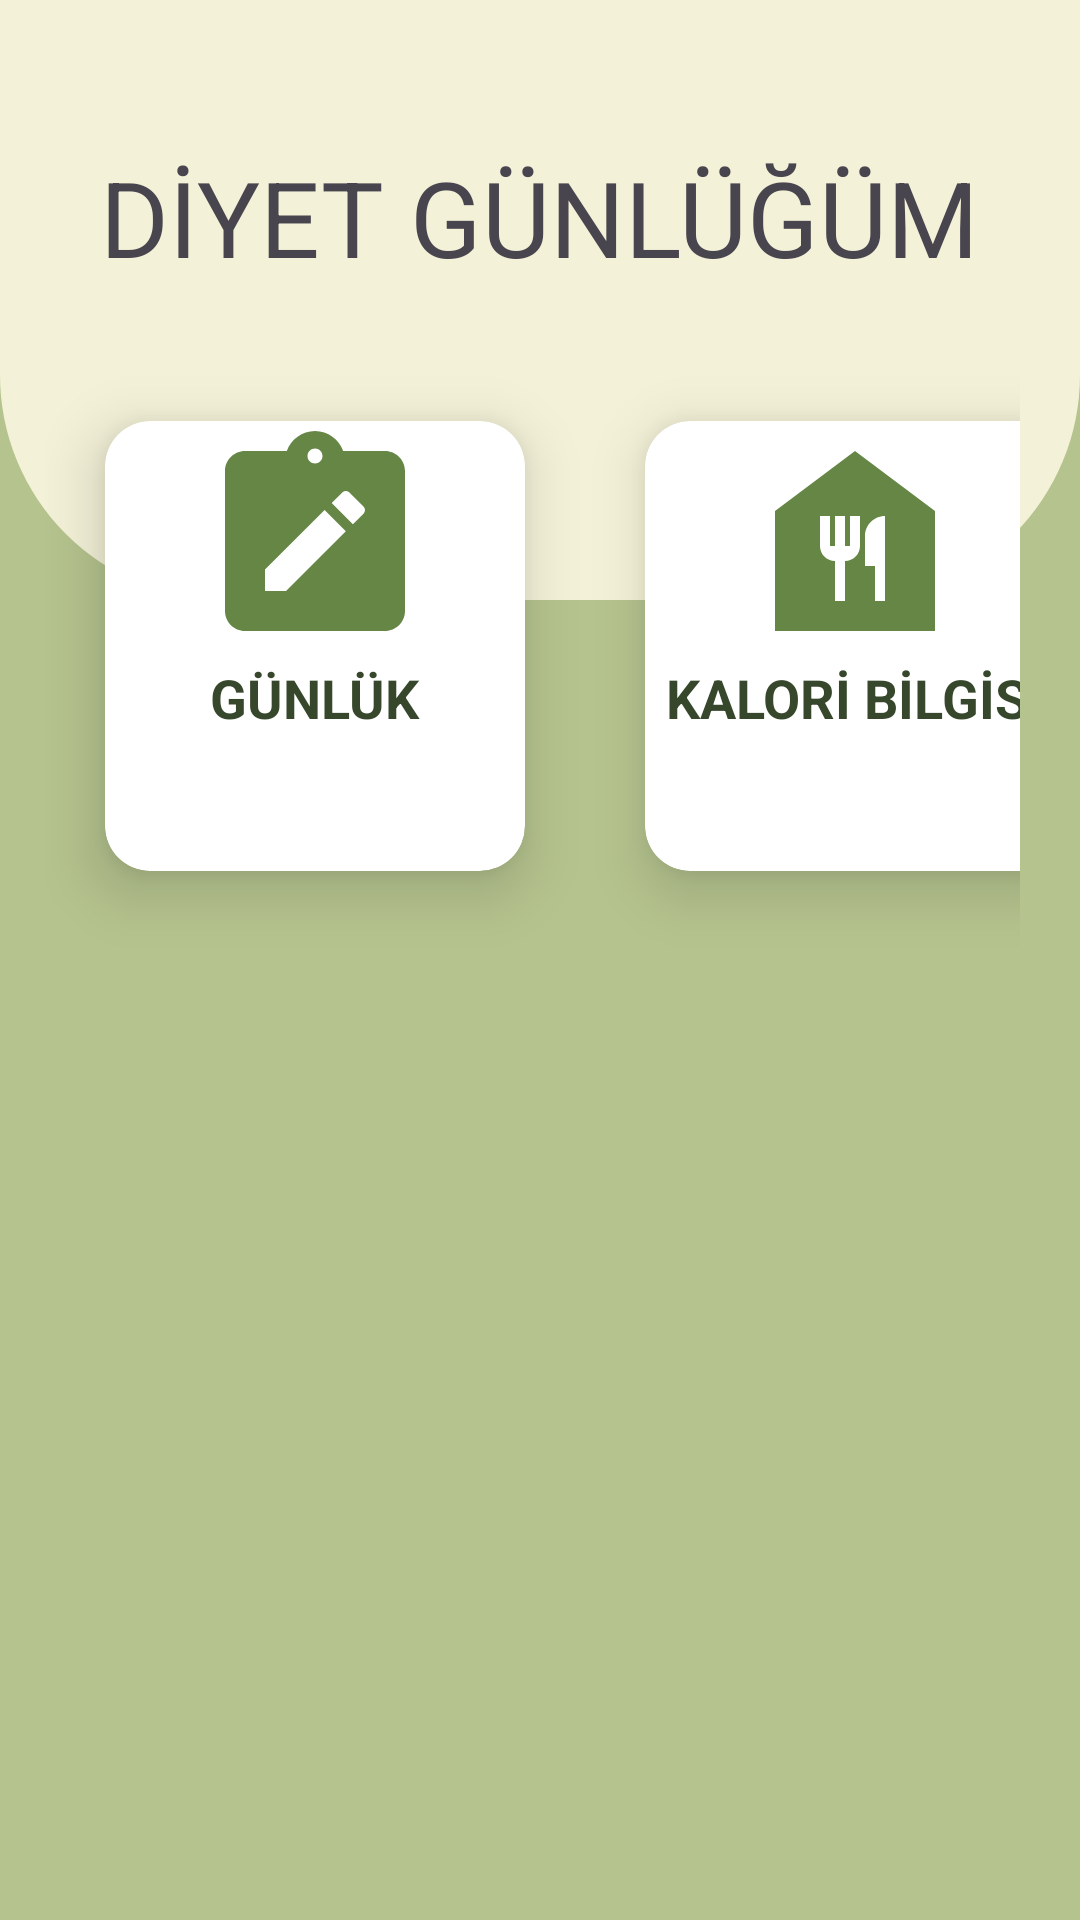

Icon click points for this 1080 x 1920 phone screenshot, format point (x, y):
note: point (315, 531)
yemek: point (855, 541)
